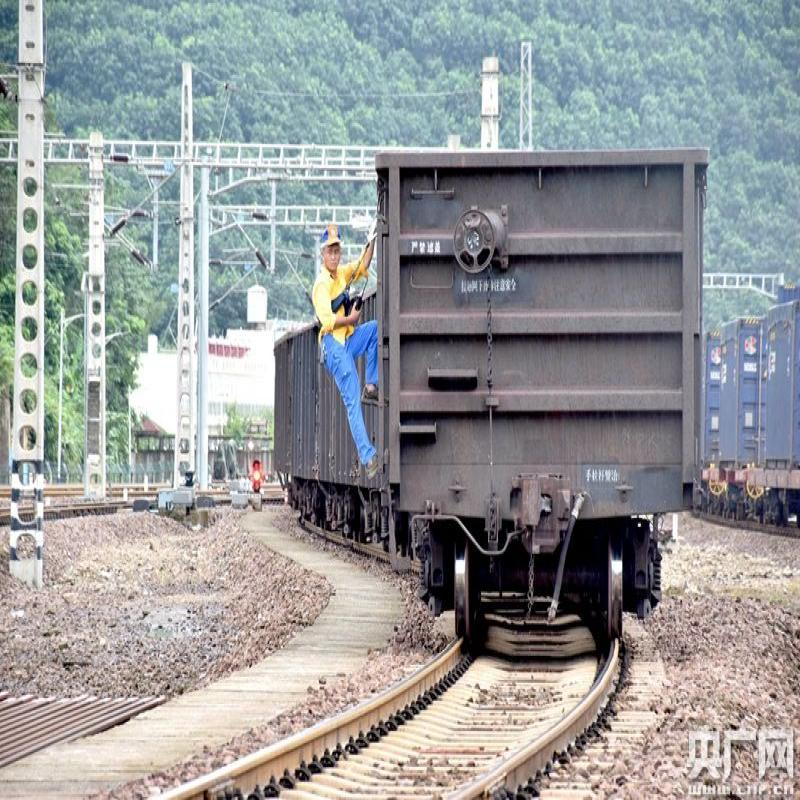train: (278, 172, 708, 656)
